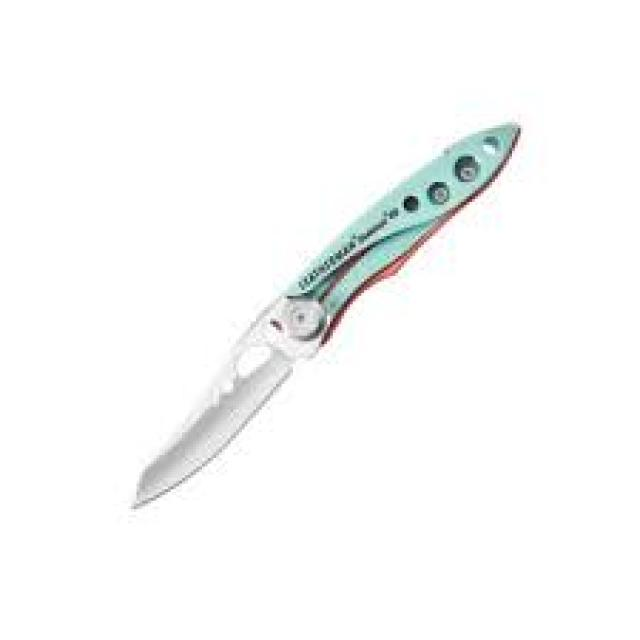knife: (132, 123, 522, 511)
